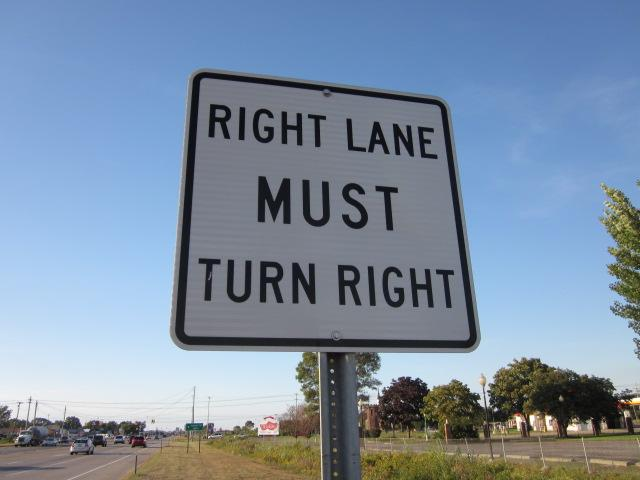regulatory: (161, 63, 490, 371)
